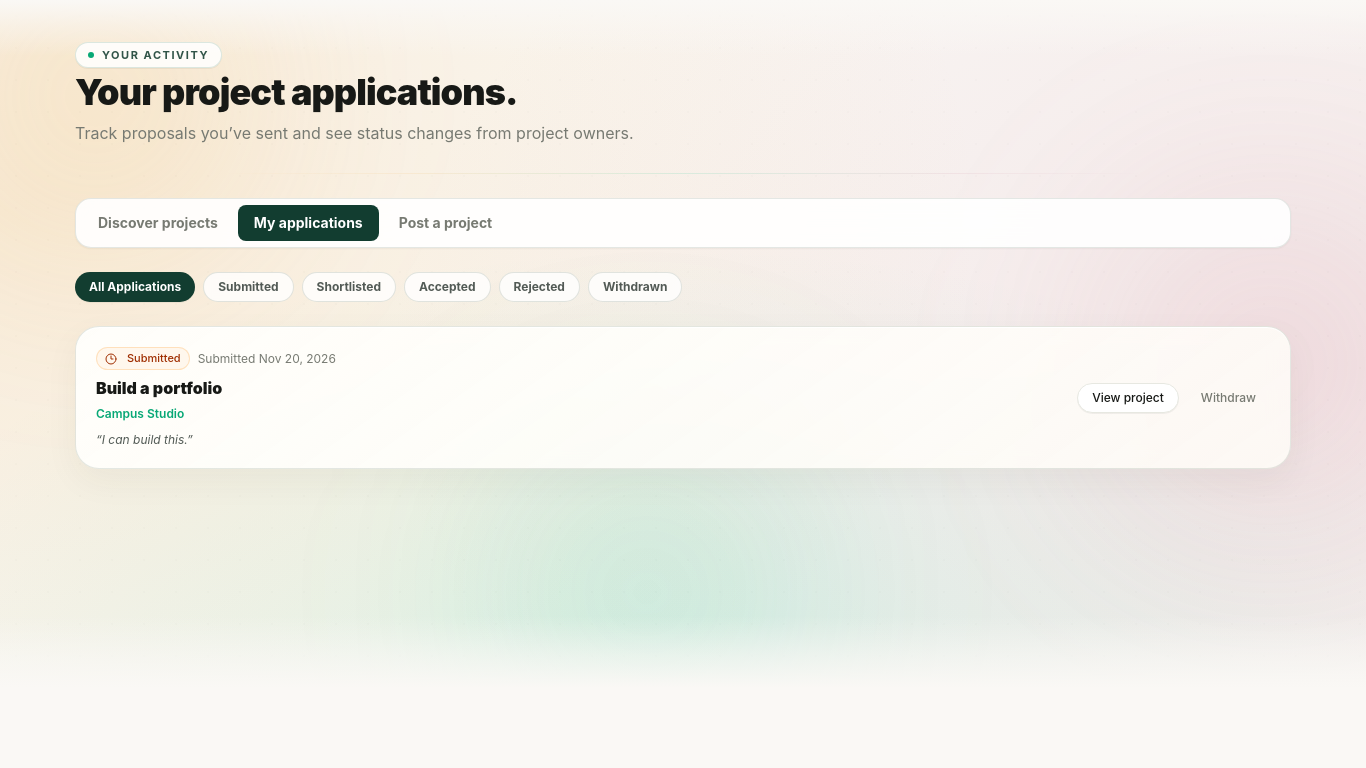
Scenario: ApplicationsPage › loads the signed-in student applications and withdraws through the repository
Expected: the heading "Build a portfolio" is shown, [96,378,222,398]
Expected: the text "Submitted" is shown, [96,347,190,370]
Click the button "Withdraw".
click(1228, 398)  # box [1187,384,1270,412]
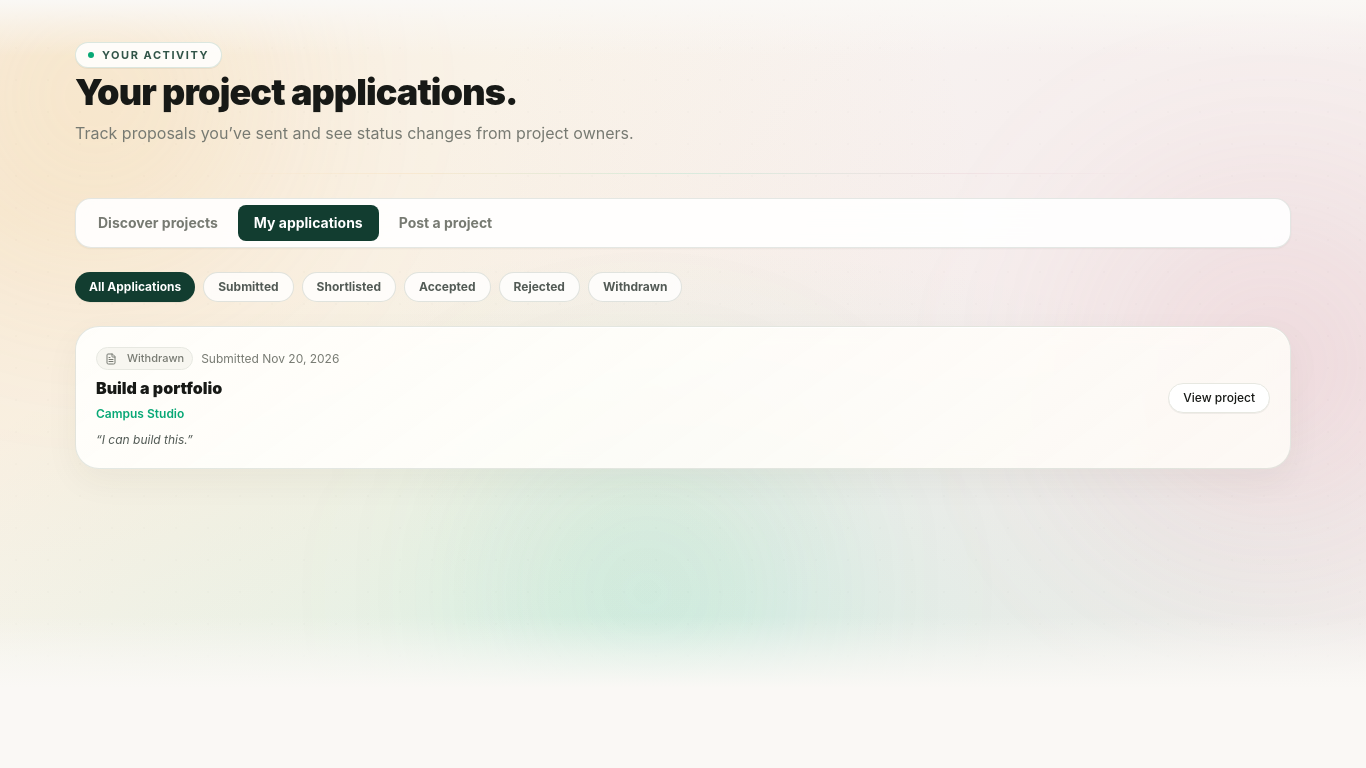
Now the text "Withdrawn" is shown, box [96,347,193,370]
